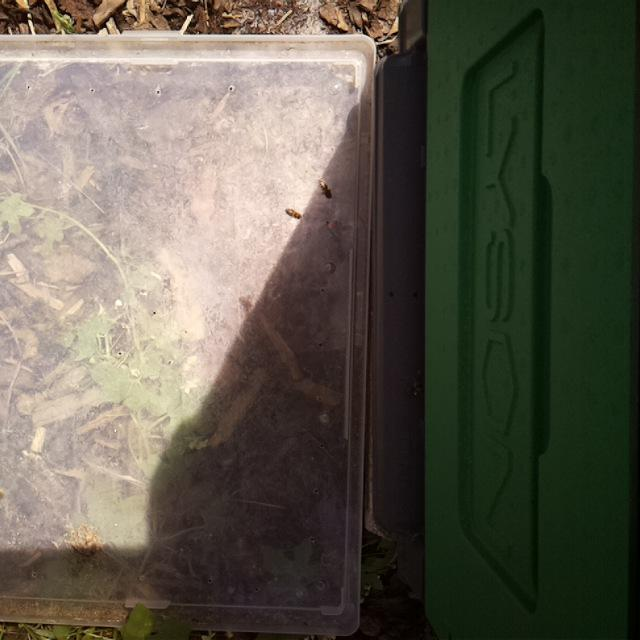worker-bee: (318, 178, 335, 203), (282, 206, 305, 223)
